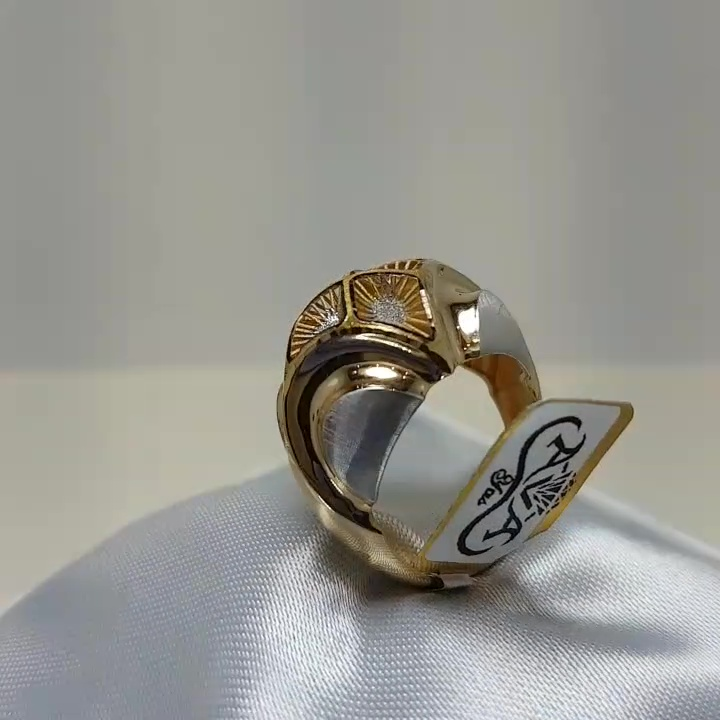Ring 2: (262, 239, 569, 588)
